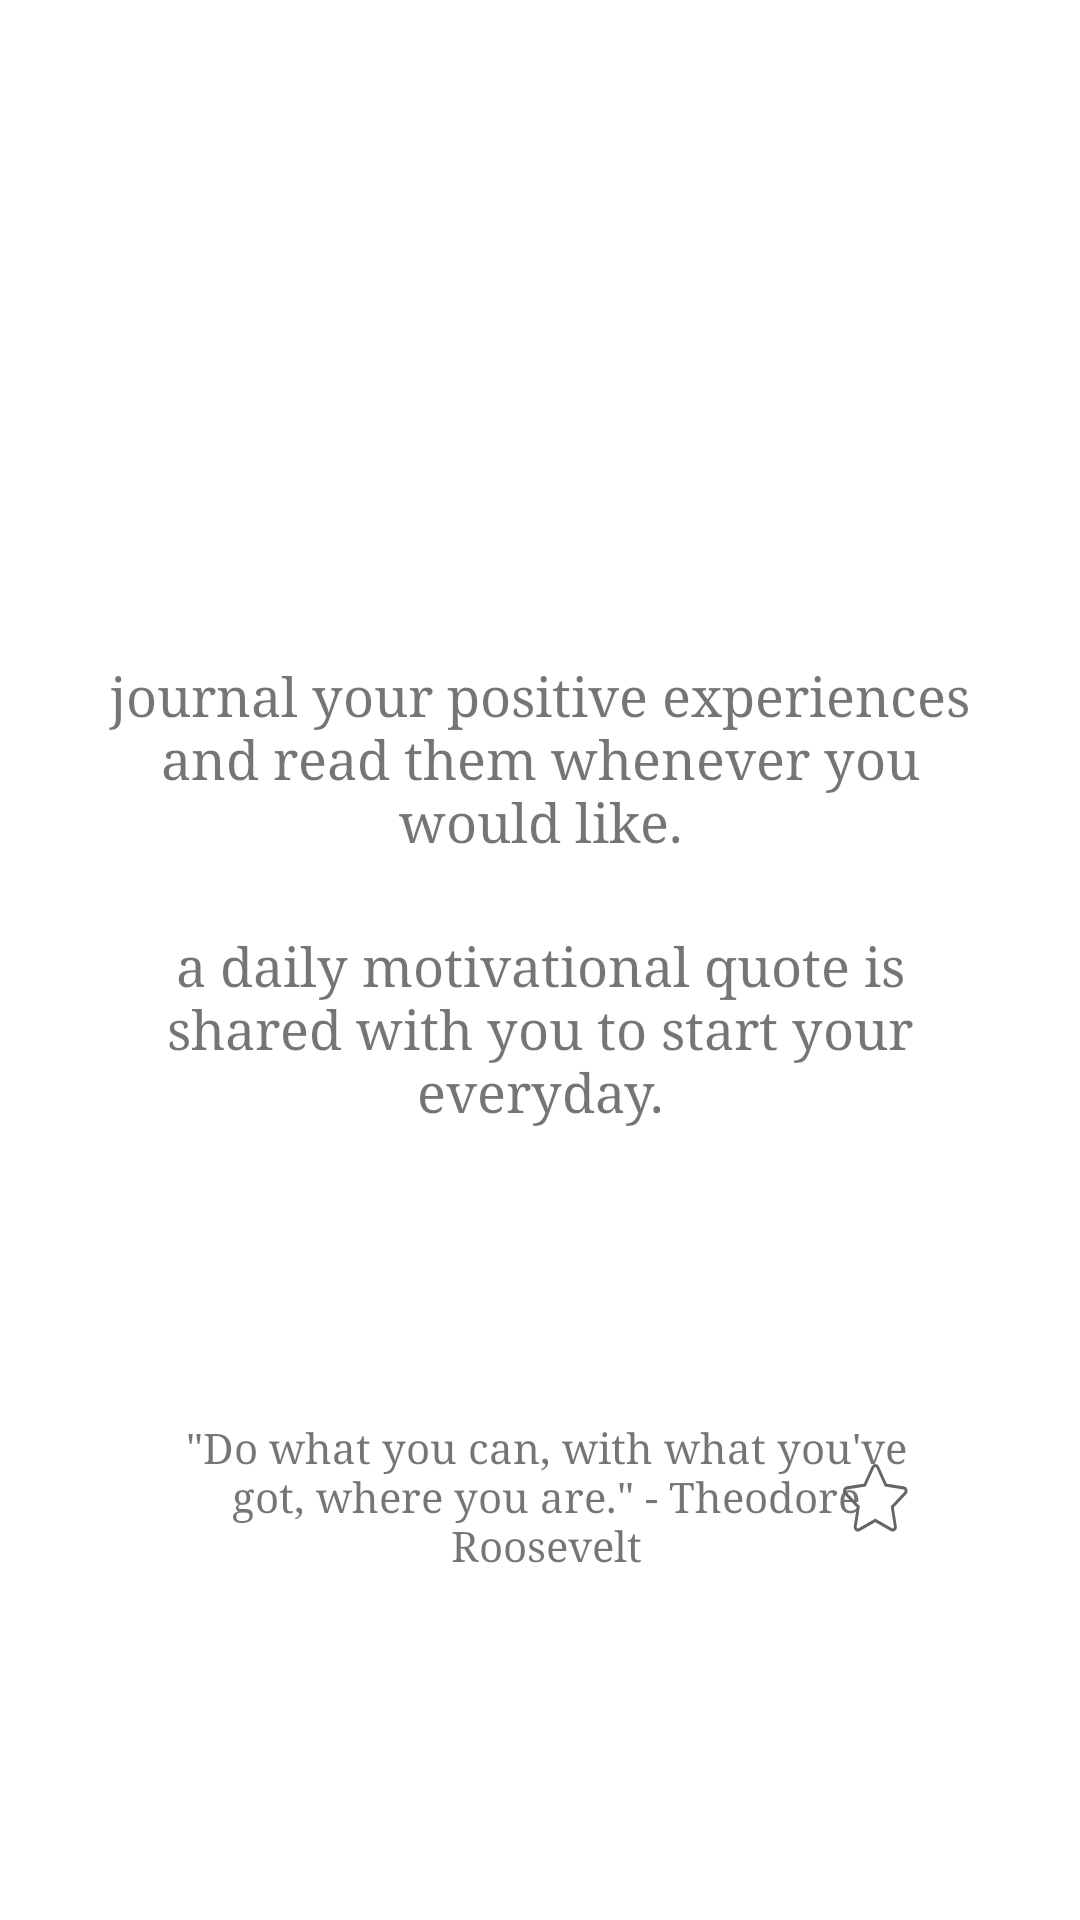

Icon click points for this 1080px x 1920px phone screenshot, format (x,y):
favorite star: (875,1498)
